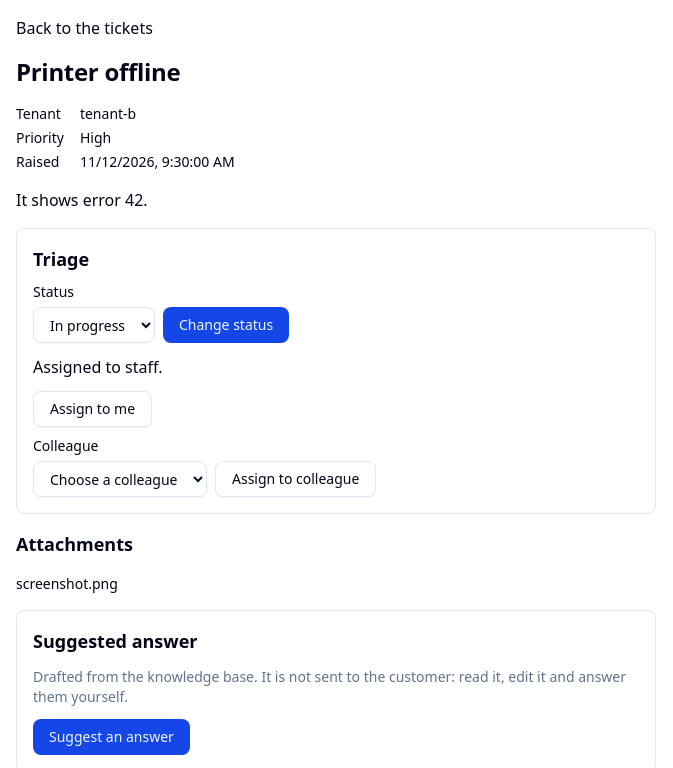
Test: a suggestion that cannot be drafted says so
The image size is (673, 768).
Click the button "Suggest an answer".
click(111, 737)  # box [33,719,190,755]
(page scrolled)
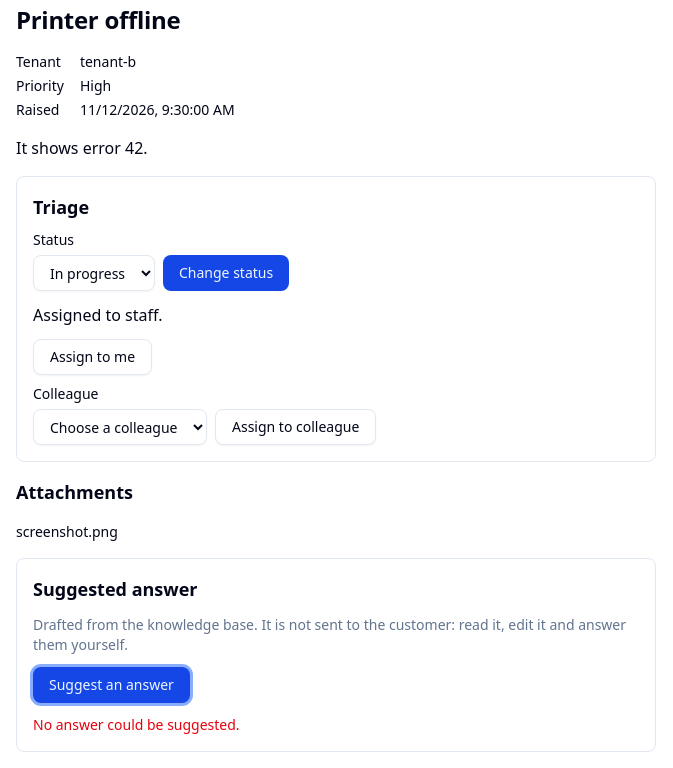
Now the message reads "No answer could be suggested.", box [33,715,240,734]
